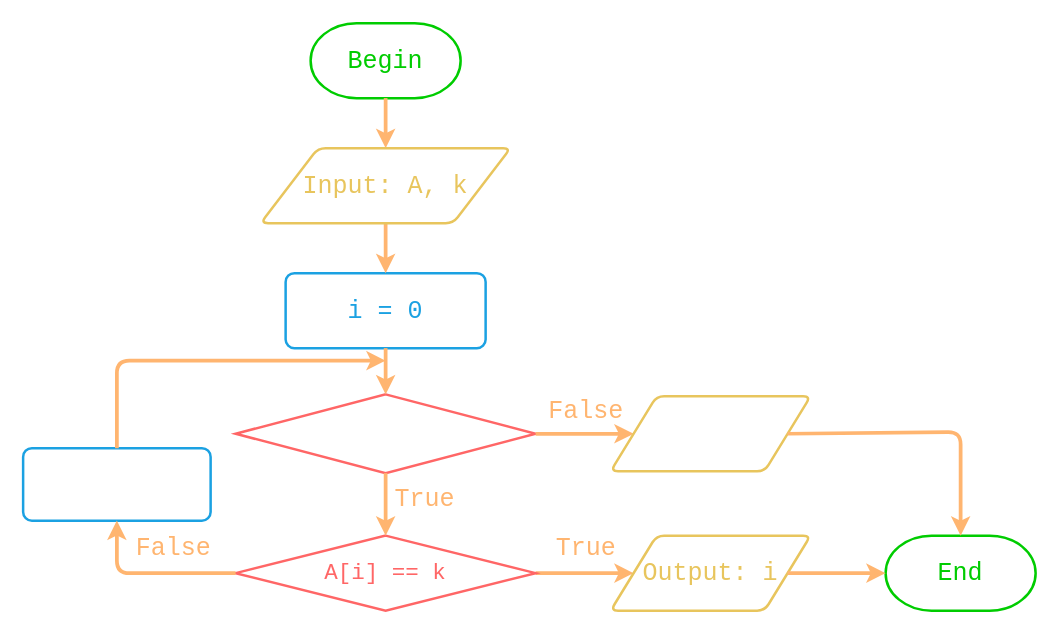
Some shapes in this 1058 by 633 pixel diagram are drawn without their labels. The centre of each missing label's shape, as x and y in pixels:
"i < n" goes at point 385,433.
"Output: -1" goes at point 710,433.
"Tăng i thêm 1" goes at point 116,483.
